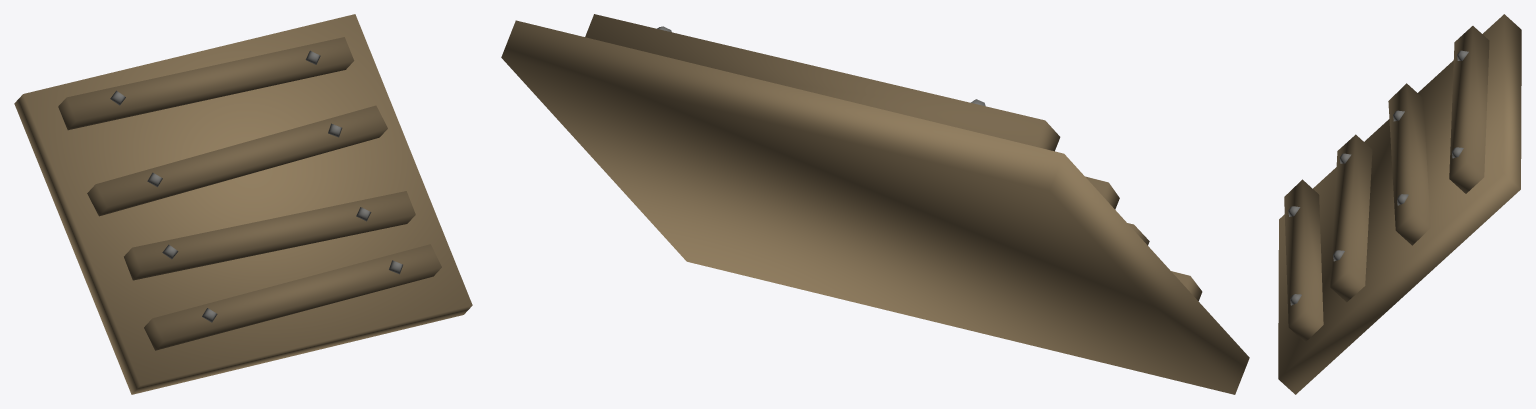
Rendered from rpgpp_ag_stairs_entrance_04.fbx.
3 views of the same model, side by side, from view 1: azimuth 30°, elevation 25°; view 2: azimuth 150°, elevation 25°; view 3: azimuth 270°, elevation 25° (orthographic). The views are drawn at different scales.
Parts seen in each view (by area): view 1: rpgpp_ag_stairs_entrance_04; view 2: rpgpp_ag_stairs_entrance_04; view 3: rpgpp_ag_stairs_entrance_04.
Part boxes in pixels (x1,y1,x2,y2): rpgpp_ag_stairs_entrance_04: [14, 14, 472, 394]; rpgpp_ag_stairs_entrance_04: [501, 14, 1249, 394]; rpgpp_ag_stairs_entrance_04: [1278, 14, 1521, 394].
Bounding box in the file's own units: 2.09 × 1.35 × 1.34.
